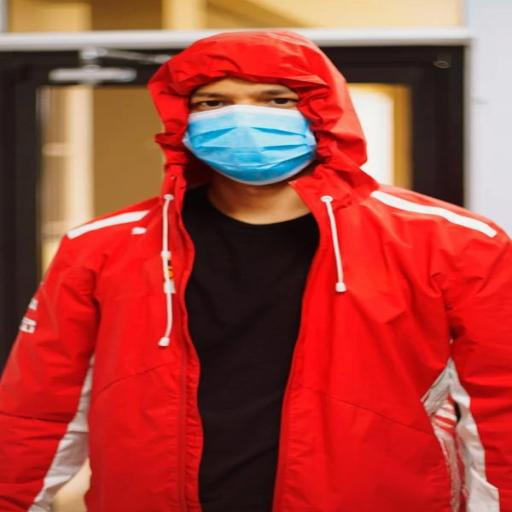mask: (56, 54, 399, 197)
